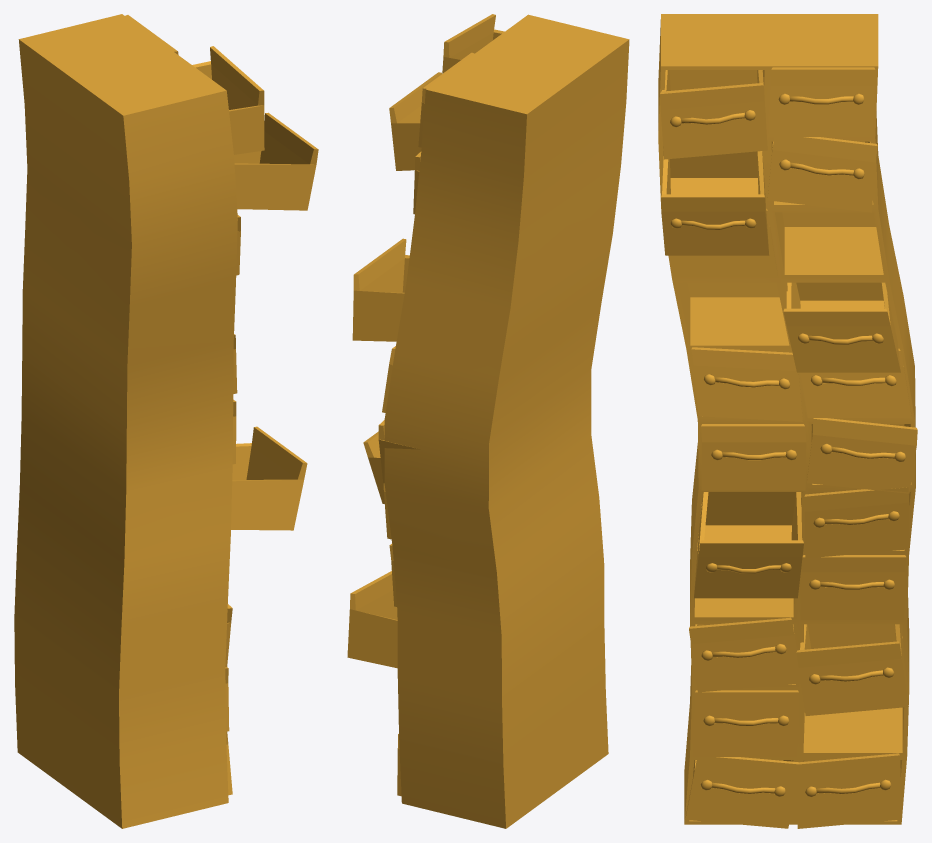
The model's file is mueble3 1.fbx.
3 views of the same model, side by side, from view 1: azimuth 30°, elevation 25°; view 2: azimuth 150°, elevation 25°; view 3: azimuth 270°, elevation 25° (orthographic). The views are drawn at different scales.
Parts seen in each view (by area): view 1: Cube, Cube.005, Cube.010, Cube.011; view 2: Cube, Cube.019, Cube.014, Cube.010, Cube.011, Cube.005; view 3: Cube, Cube.005, Cube.010, Cube.019, Cube.014, Cube.011, Cube.022, Cube.007, Cube.021, Cube.017, Cube.012, Cube.001 (+7 smaller).
Part boxes in pixels (bbox=[...]): Cube: bbox=[14, 14, 237, 828]; Cube.005: bbox=[231, 426, 307, 530]; Cube.010: bbox=[234, 112, 318, 210]; Cube.011: bbox=[192, 46, 264, 154]; Cube: bbox=[384, 14, 629, 828]; Cube.019: bbox=[352, 238, 409, 341]; Cube.014: bbox=[347, 571, 397, 668]; Cube.010: bbox=[389, 72, 441, 170]; Cube.011: bbox=[442, 14, 504, 73]; Cube.005: bbox=[363, 431, 384, 503]; Cube: bbox=[658, 14, 915, 824]; Cube.005: bbox=[694, 492, 803, 598]; Cube.010: bbox=[661, 151, 769, 255]; Cube.019: bbox=[783, 282, 900, 372]; Cube.014: bbox=[796, 624, 908, 715]; Cube.011: bbox=[660, 70, 767, 159]; Cube.022: bbox=[768, 67, 875, 136]; Cube.007: bbox=[691, 347, 802, 421]; Cube.021: bbox=[767, 137, 877, 212]; Cube.017: bbox=[807, 418, 917, 493]; Cube.012: bbox=[796, 753, 901, 828]; Cube.001: bbox=[685, 757, 800, 828].
Size of the model in its own units: 1265 by 4319 by 1348.
